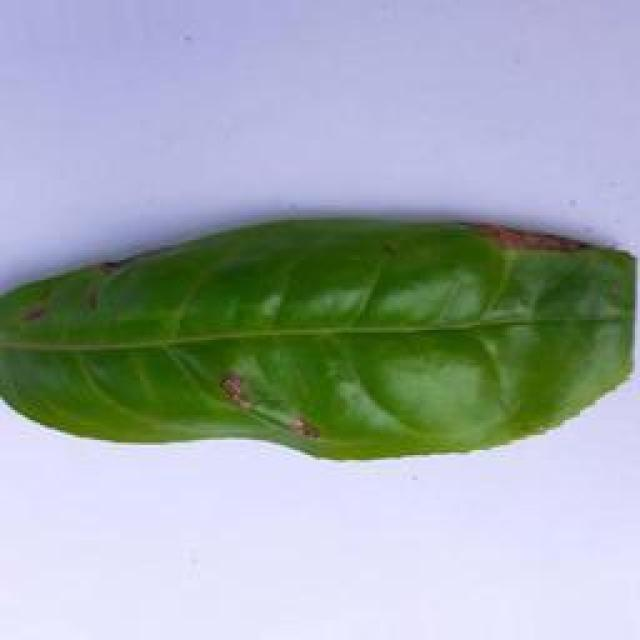Brown Blight: (0, 210, 640, 480)
